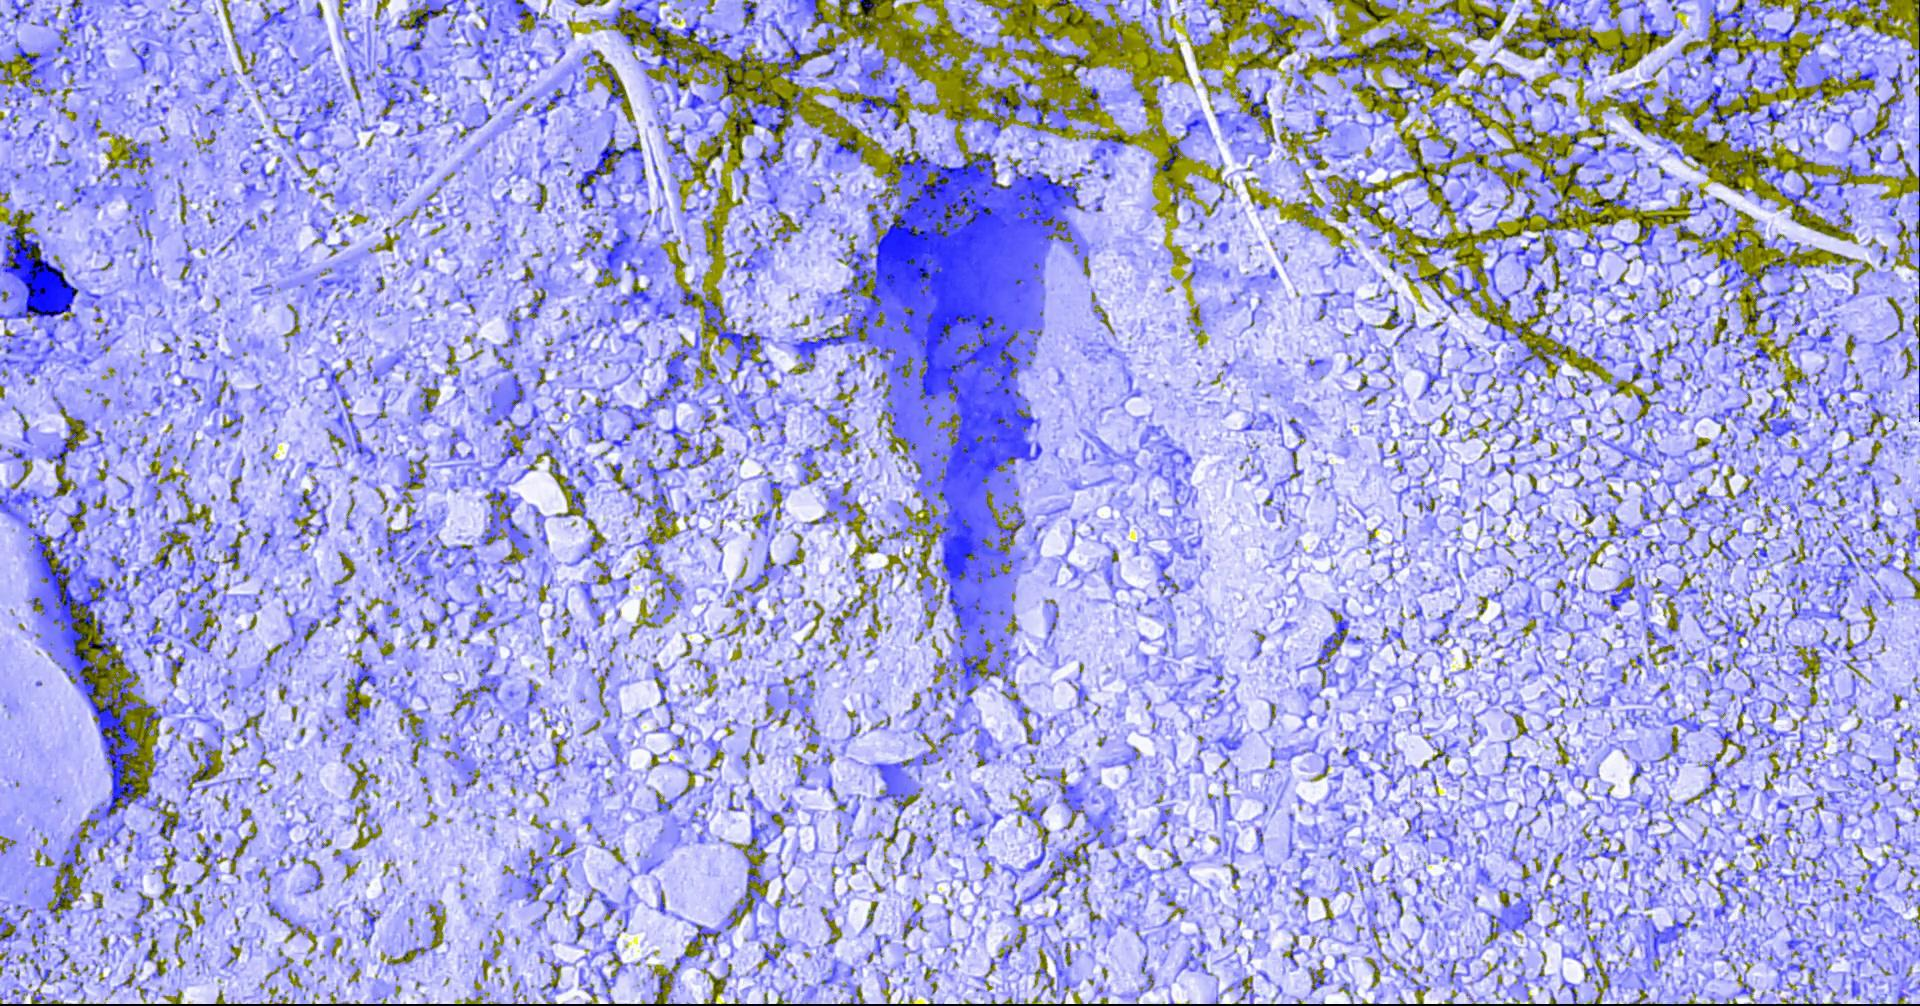ant: (577, 130, 641, 207), (702, 298, 762, 372), (612, 3, 677, 65), (639, 351, 687, 415), (1702, 85, 1743, 140), (397, 0, 465, 29), (875, 760, 910, 813), (483, 486, 516, 544), (1310, 617, 1347, 668), (770, 22, 800, 83), (959, 641, 987, 705), (46, 423, 79, 473), (1417, 268, 1454, 307), (598, 229, 629, 276), (1318, 52, 1371, 79), (1730, 58, 1756, 108), (992, 94, 1023, 135), (1619, 225, 1655, 260), (1746, 272, 1790, 300), (1652, 918, 1685, 955), (386, 521, 422, 550), (599, 62, 623, 104), (1423, 64, 1465, 86), (756, 140, 783, 174), (690, 923, 720, 954), (251, 8, 284, 36), (1026, 827, 1048, 869), (1713, 3, 1749, 28), (50, 873, 72, 912), (1902, 349, 1919, 403), (97, 636, 123, 669), (0, 492, 36, 516), (752, 98, 789, 121), (1780, 183, 1806, 216), (858, 97, 899, 117), (648, 459, 677, 486), (348, 662, 375, 692), (1243, 91, 1270, 121), (382, 43, 405, 76), (1718, 257, 1743, 286), (1681, 490, 1710, 516), (1511, 895, 1531, 931), (1699, 757, 1718, 794), (1468, 137, 1495, 163), (664, 424, 691, 450), (15, 41, 43, 65), (1534, 201, 1563, 224), (166, 520, 192, 545), (510, 0, 538, 23), (1610, 582, 1633, 610), (748, 815, 767, 848), (734, 105, 759, 130), (159, 815, 184, 840), (1523, 257, 1542, 288), (194, 749, 213, 781), (1779, 11, 1801, 39), (566, 483, 584, 516), (738, 46, 762, 70), (1837, 544, 1863, 567), (1766, 105, 1787, 133), (1180, 118, 1208, 138), (1766, 300, 1784, 332), (1157, 556, 1172, 593), (1887, 64, 1902, 99), (62, 842, 80, 873), (1617, 451, 1648, 467), (758, 551, 775, 583), (744, 873, 759, 907), (803, 0, 827, 22), (1062, 785, 1082, 810), (1393, 79, 1421, 97), (834, 138, 862, 156), (197, 570, 215, 598), (344, 697, 362, 725), (1716, 869, 1743, 887), (549, 84, 574, 103), (1100, 133, 1125, 152), (128, 142, 147, 168), (509, 373, 522, 412), (356, 437, 375, 462), (385, 81, 403, 108), (891, 354, 912, 377), (1650, 357, 1663, 390), (735, 257, 754, 281), (499, 442, 518, 466), (1049, 862, 1068, 887), (653, 489, 668, 518), (1835, 565, 1849, 597), (1261, 39, 1288, 56), (1161, 144, 1177, 170), (11, 0, 32, 22), (69, 0, 83, 30), (135, 42, 149, 72), (804, 44, 834, 58), (625, 287, 650, 304), (639, 536, 655, 561), (865, 70, 884, 91), (530, 287, 543, 316), (467, 685, 497, 699), (1423, 366, 1439, 392), (623, 405, 640, 429), (1768, 420, 1796, 434), (1267, 19, 1293, 34), (24, 62, 50, 77), (1606, 189, 1629, 206), (683, 18, 698, 42), (362, 908, 377, 932), (1810, 180, 1827, 201), (1384, 307, 1402, 328), (580, 582, 597, 603), (742, 0, 756, 25), (1757, 262, 1783, 276), (321, 97, 337, 119), (1627, 361, 1642, 384), (527, 878, 542, 901), (723, 66, 735, 93), (1578, 240, 1603, 254), (696, 37, 717, 52), (1817, 391, 1830, 417), (1542, 36, 1564, 50), (225, 541, 239, 564), (303, 619, 317, 641), (1022, 807, 1046, 819), (1799, 0, 1826, 11), (1531, 281, 1548, 298), (69, 499, 85, 517), (1032, 104, 1048, 123), (1217, 737, 1239, 749), (1521, 197, 1534, 218), (138, 892, 151, 913), (1065, 851, 1079, 870), (1397, 41, 1420, 52), (0, 917, 11, 940), (1704, 48, 1717, 69), (32, 597, 47, 614), (687, 94, 703, 108), (403, 41, 420, 53), (1488, 915, 1497, 940), (1651, 114, 1666, 128), (670, 137, 683, 154), (1867, 145, 1879, 161), (293, 121, 305, 138), (1639, 11, 1653, 25), (406, 474, 419, 488), (682, 291, 693, 305)
